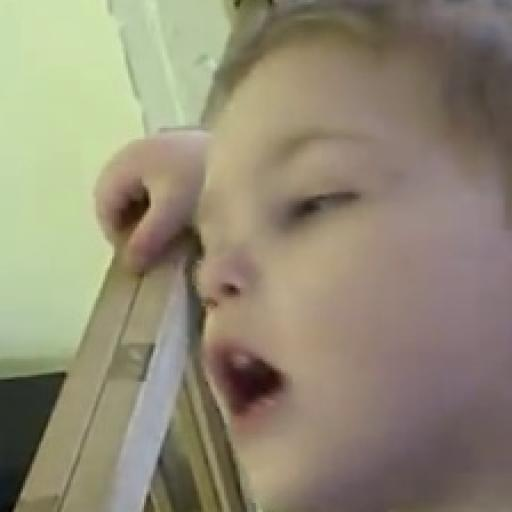Autism: (201, 8, 512, 512)
